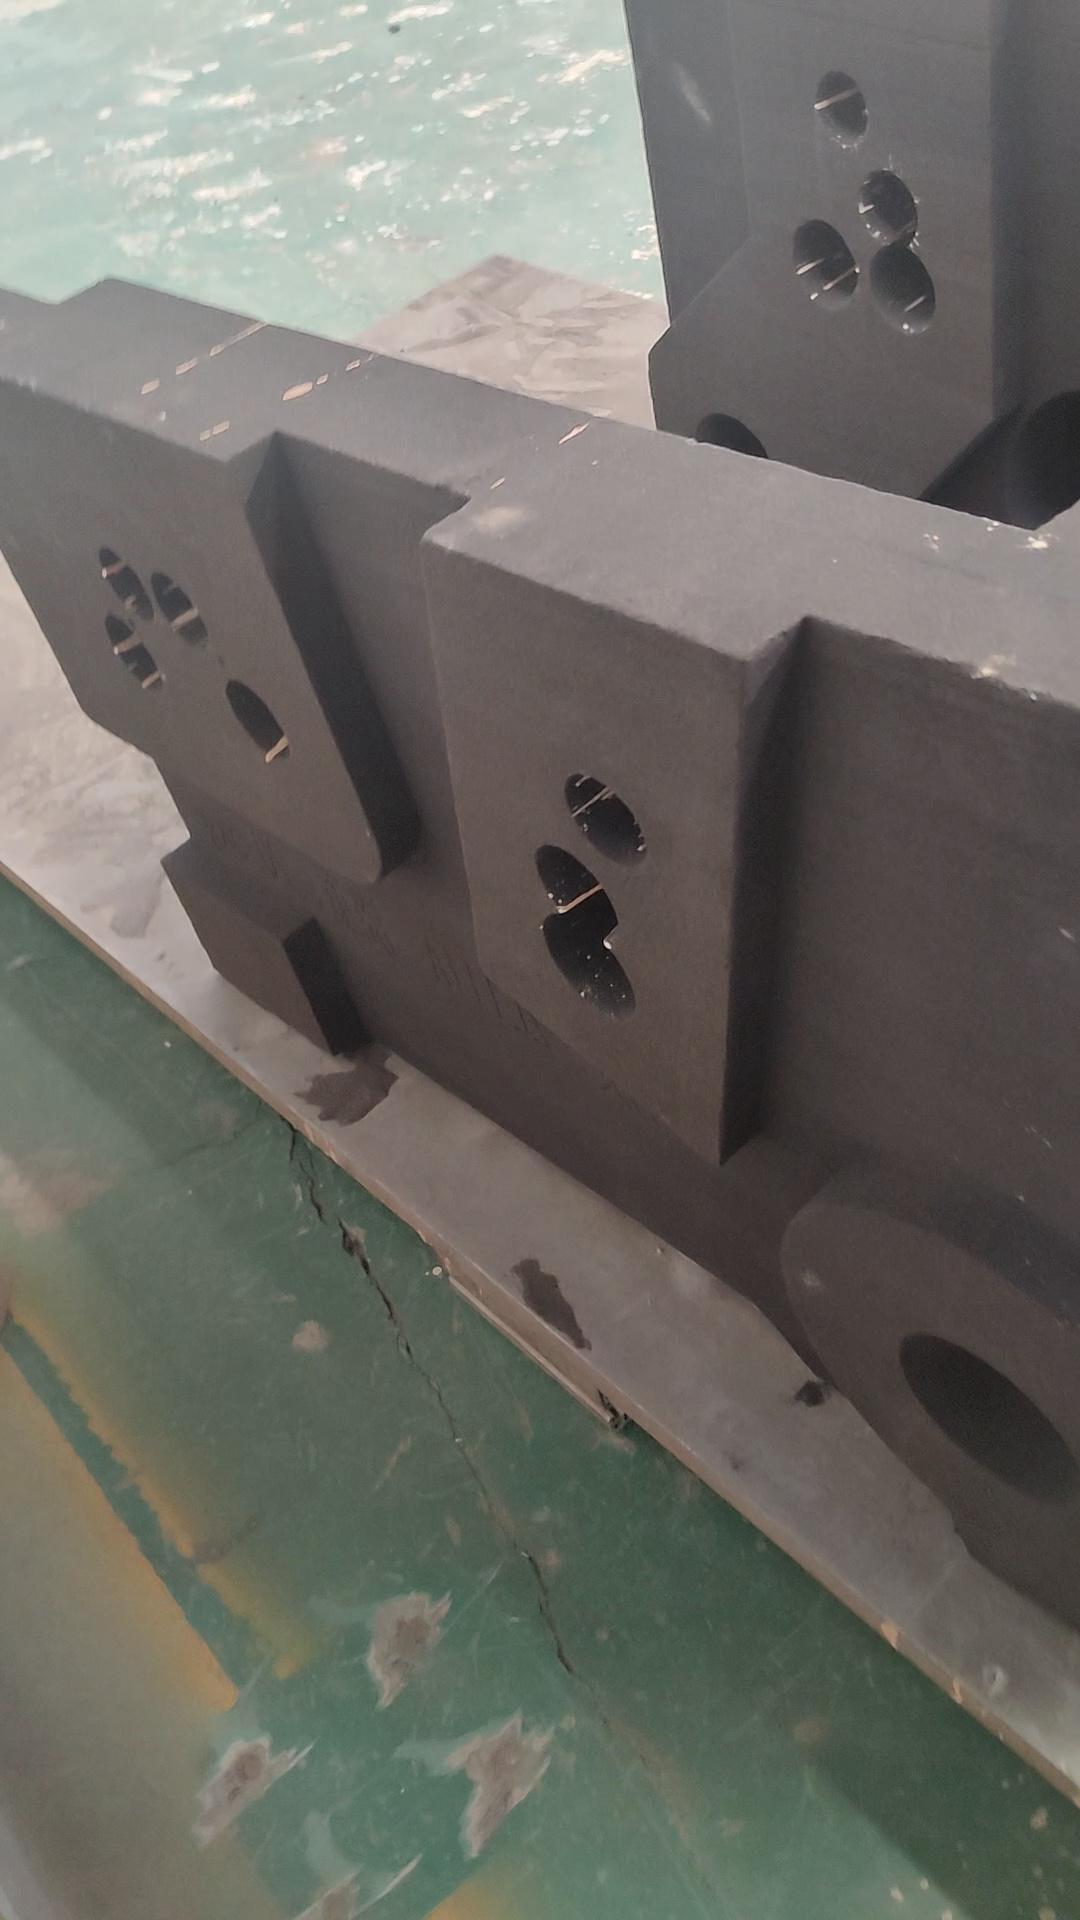pouring hole: (899, 1333, 1080, 1518), (694, 411, 771, 488)
